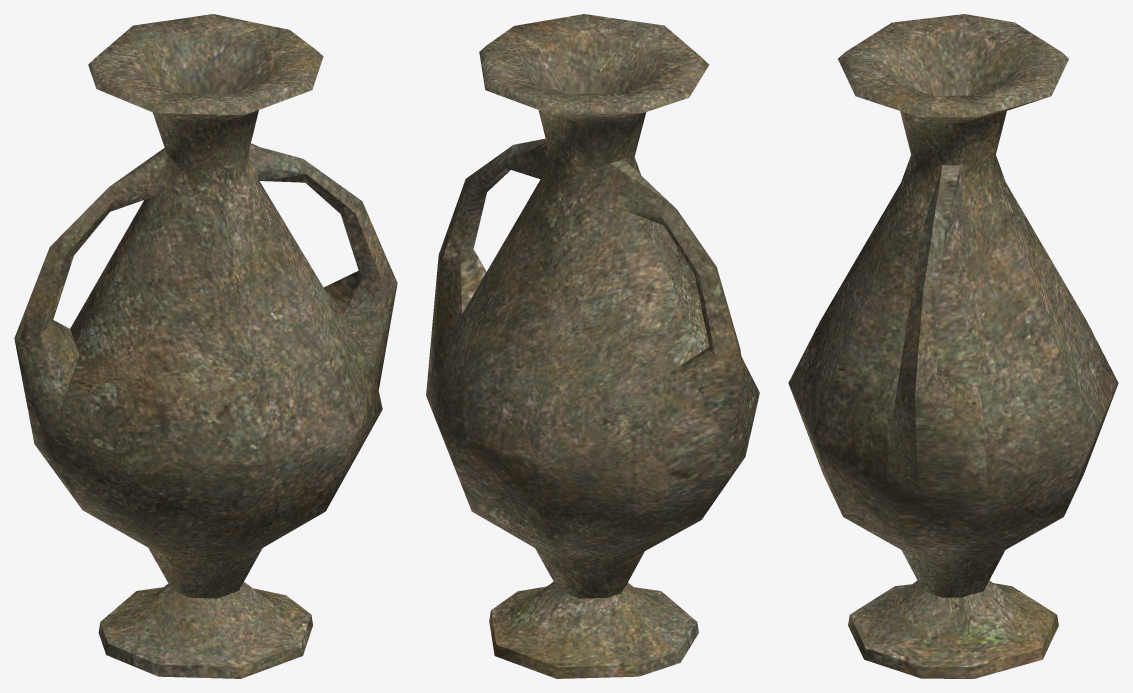
The model's file is amphora2_lod.fbx.
3 renders of one model, left to right at view 1: azimuth 30°, elevation 25°; view 2: azimuth 150°, elevation 25°; view 3: azimuth 270°, elevation 25°, orthographic.
Parts seen in each view (by area): view 1: Mesh Object; view 2: Mesh Object; view 3: Mesh Object.
Boxes of the visible parts, x1,y1,x2,y2 form: Mesh Object: (14, 14, 397, 678); Mesh Object: (426, 14, 759, 678); Mesh Object: (788, 14, 1118, 678).
Bounding box in the file's own units: 0.5464 × 0.8729 × 0.456.
